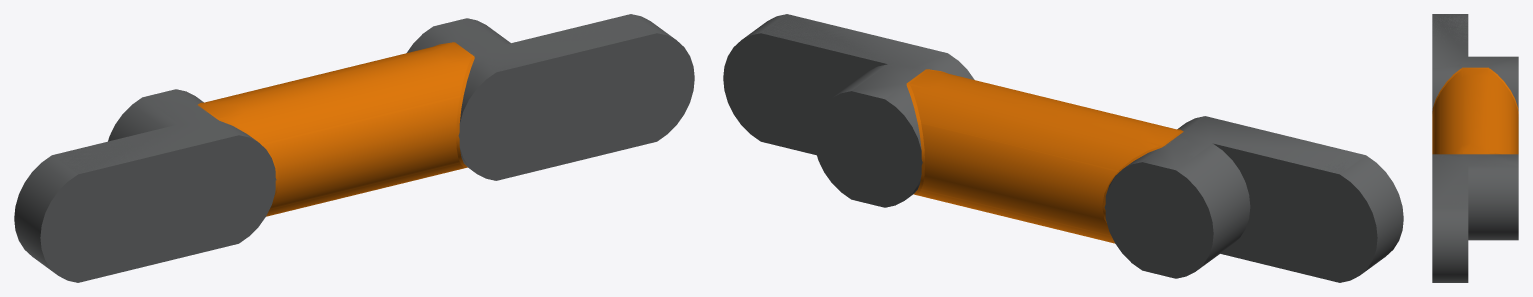
3 views of the same model, side by side, from view 1: azimuth 30°, elevation 25°; view 2: azimuth 150°, elevation 25°; view 3: azimuth 270°, elevation 25° (orthographic). The views are drawn at different scales.
Visible parts, largest first — view 1: d2_LOD0, d2_col; view 2: d2_LOD0, d2_col; view 3: d2_LOD0, d2_col.
Part boxes in pixels (x1=…): d2_LOD0: x1=14, y1=14, x2=694, y2=282; d2_col: x1=41, y1=15, x2=694, y2=282; d2_LOD0: x1=723, y1=14, x2=1403, y2=282; d2_col: x1=724, y1=14, x2=1372, y2=278; d2_LOD0: x1=1432, y1=14, x2=1518, y2=282; d2_col: x1=1432, y1=14, x2=1518, y2=207.
Size of what is drawn, in the model's own units: 72.03 by 11.93 by 12.
